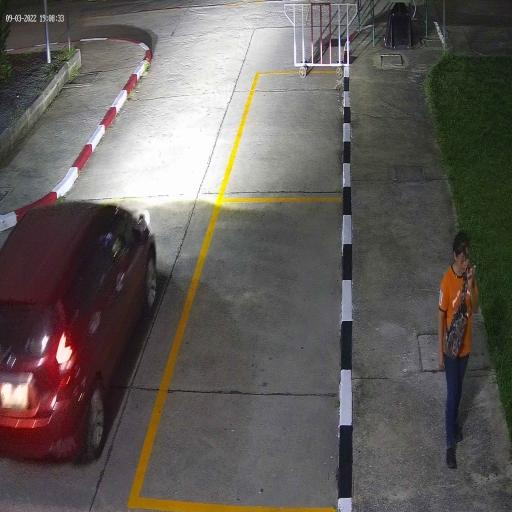car: (0, 198, 158, 462)
